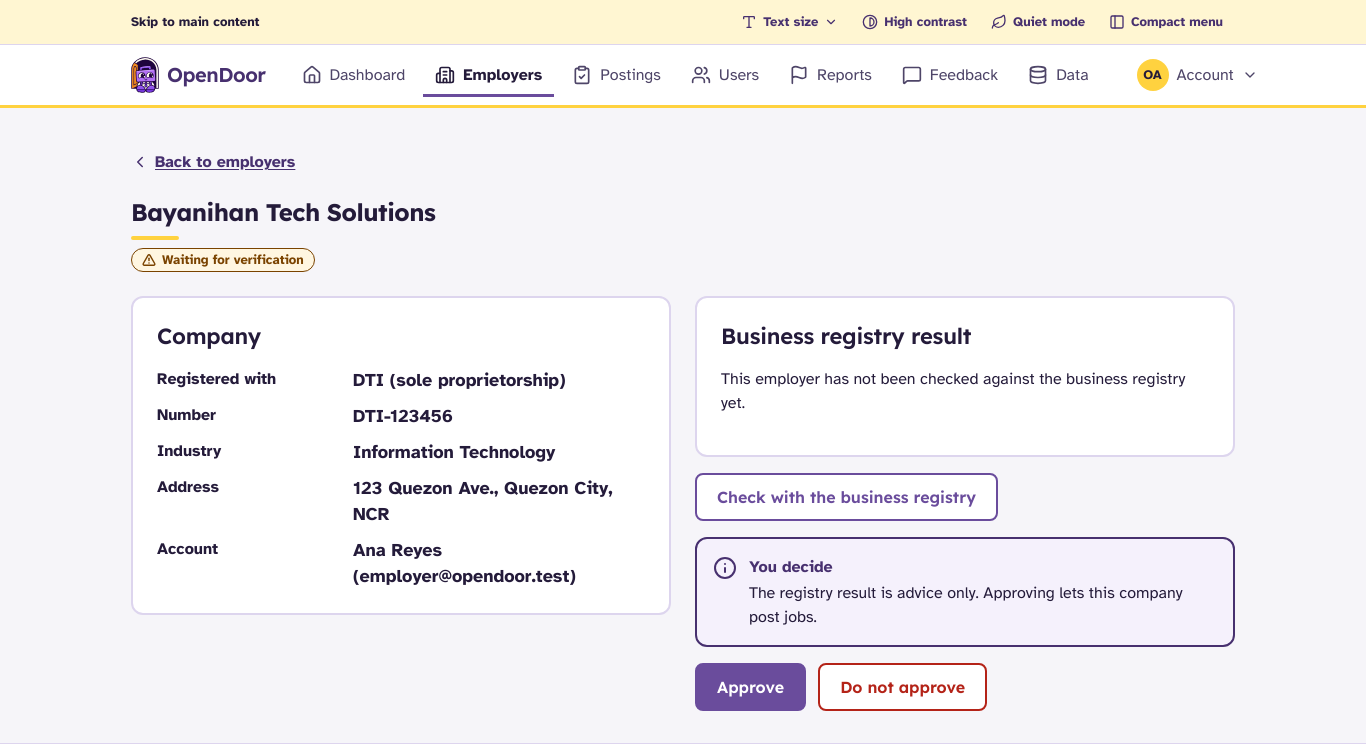
Test: AdminEmployerPage › approving gives the Verified badge
The image size is (1366, 748).
Click the button "Approve": (751, 687) [695, 663, 806, 711]
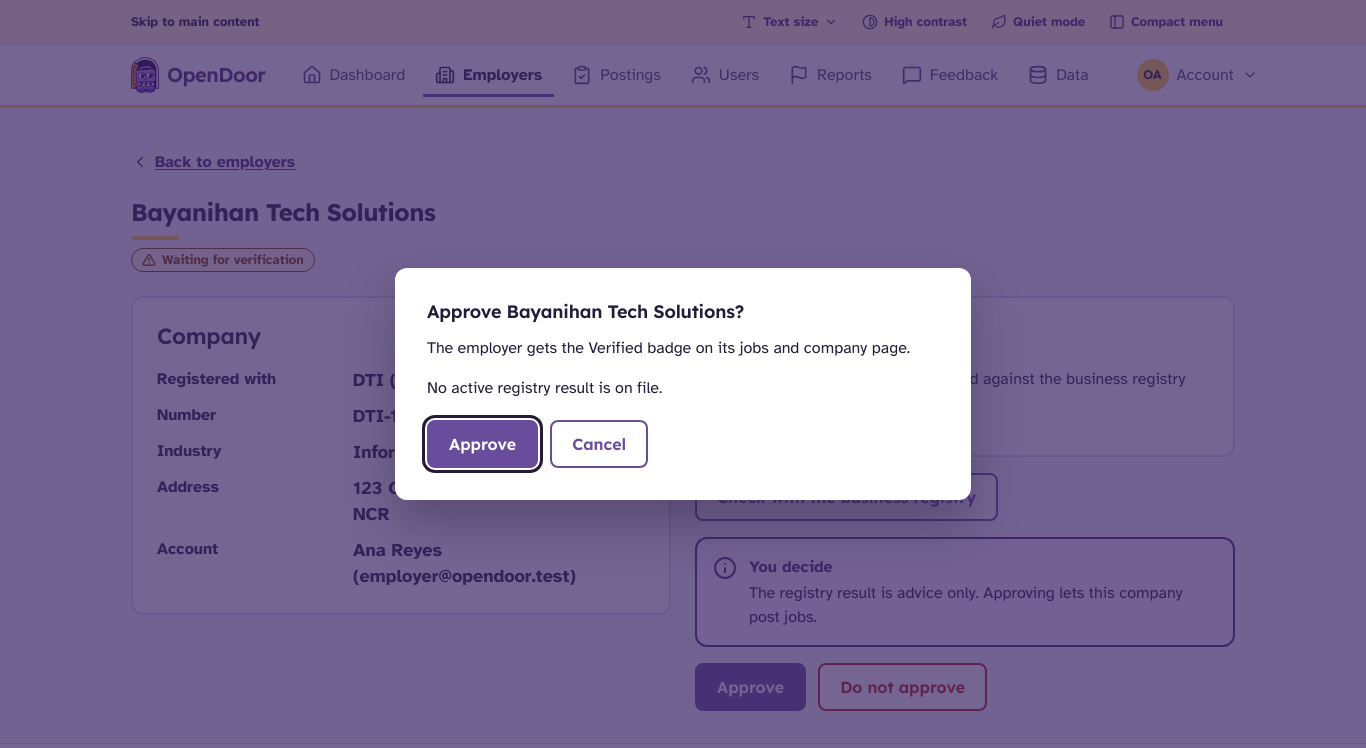
Click the button "Approve": (483, 444) [427, 420, 538, 468]
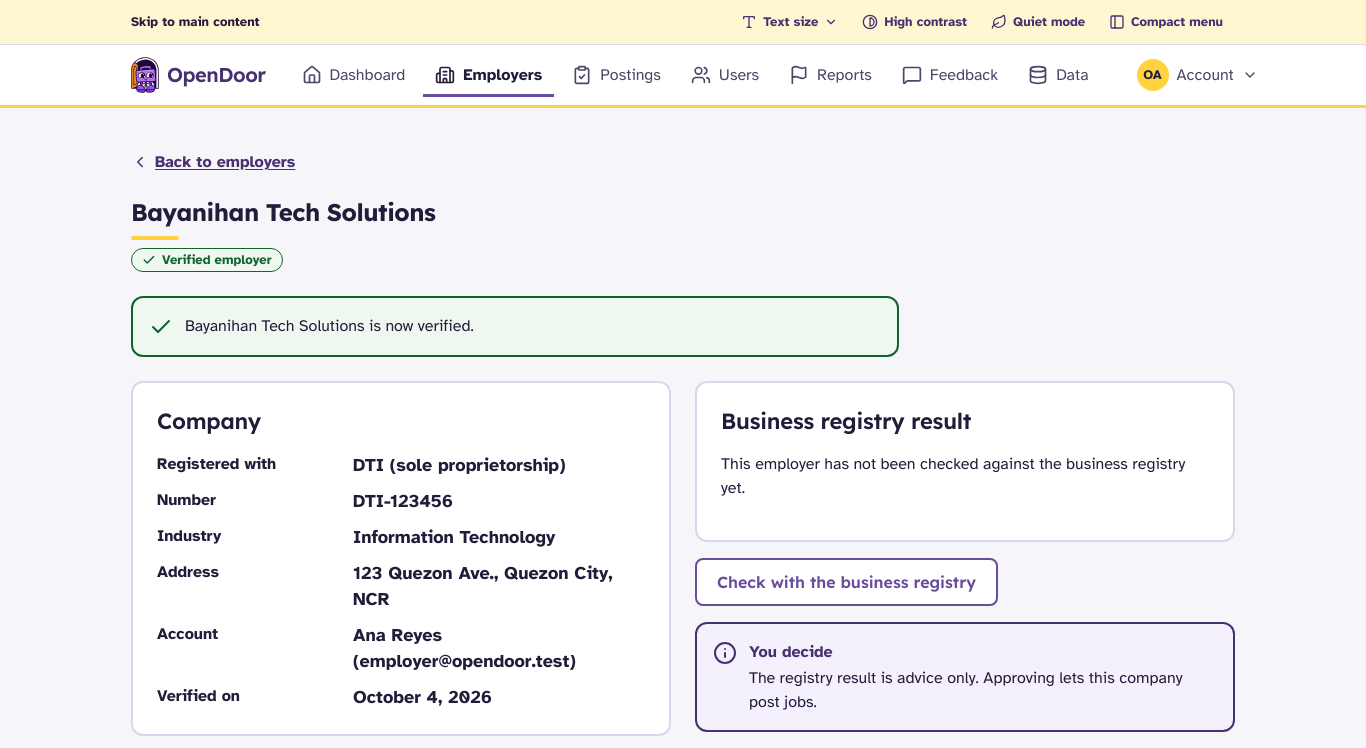
Check: the text "Bayanihan Tech Solutions is now verified." is shown, box [185, 314, 474, 338]
Check: the text "Verified employer" is shown, box [131, 248, 282, 272]
